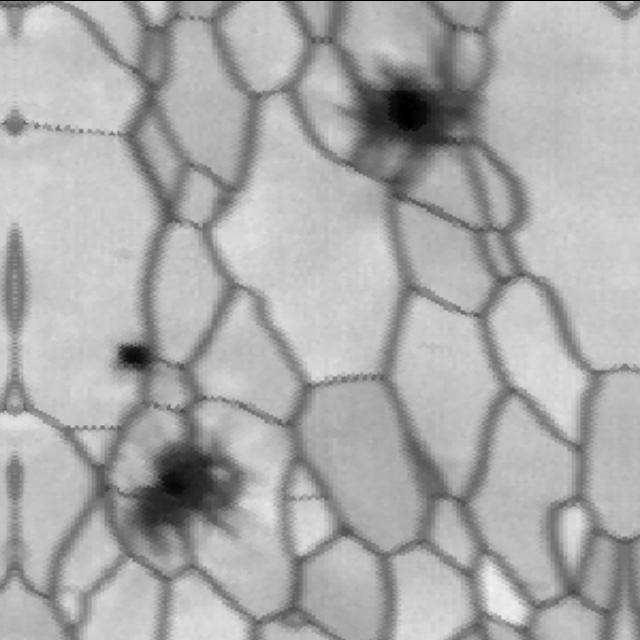good_void: (330, 39, 493, 210), (113, 423, 265, 566), (105, 338, 152, 378)
